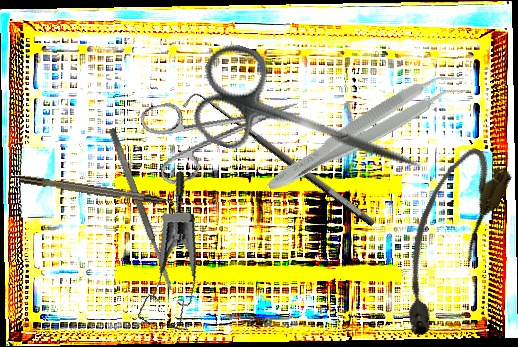Cannula: (375, 139, 517, 344)
Hook Surgical: (180, 81, 378, 242), (19, 173, 188, 210)
Iris Scissors: (183, 37, 440, 210), (138, 72, 310, 188)
Spatula Surgical: (107, 127, 175, 292)
Speculum: (109, 169, 218, 341)
Tissue Forceps: (261, 59, 472, 207)
